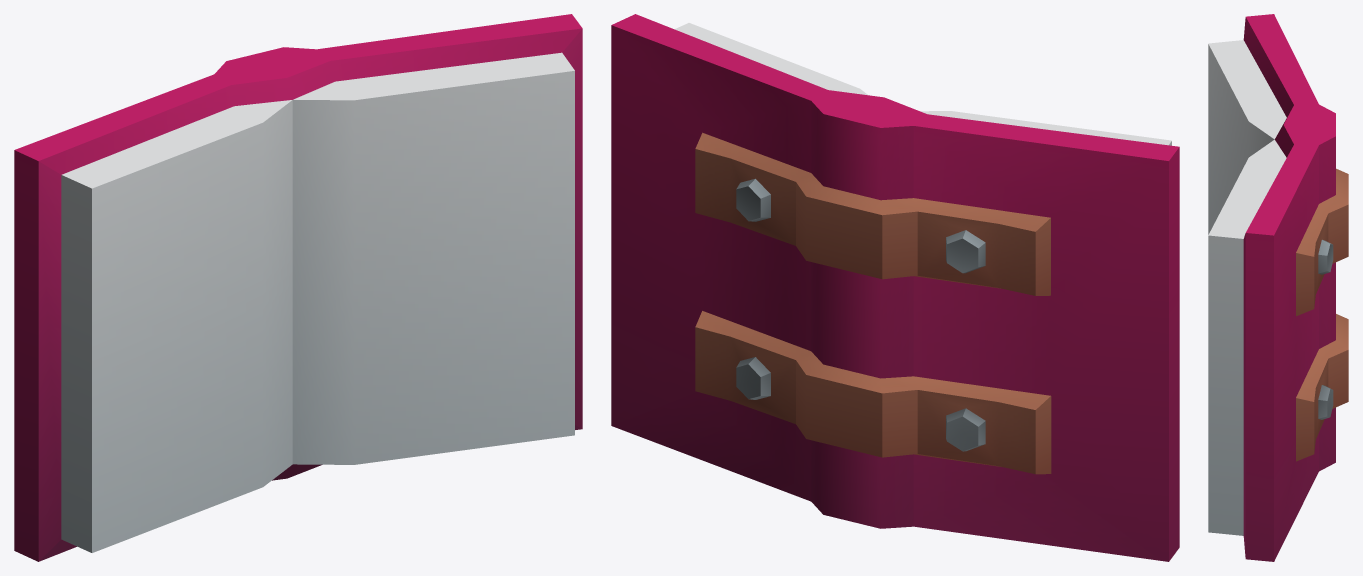
The picture shows the model from 3 angles, left to right: view 1: azimuth 30°, elevation 25°; view 2: azimuth 150°, elevation 25°; view 3: azimuth 270°, elevation 25°; orthographic projection. The views are drawn at different scales.
Parts seen in each view (by area): view 1: spellbook_open; view 2: spellbook_open; view 3: spellbook_open.
Part boxes in pixels (x1,y1,x2,y2): spellbook_open: (14, 14, 582, 561); spellbook_open: (611, 14, 1179, 561); spellbook_open: (1208, 14, 1348, 561).
Bounding box in the file's own units: 0.8282 × 0.5688 × 0.2219.
Materials: 1 (1 with a texture image).
